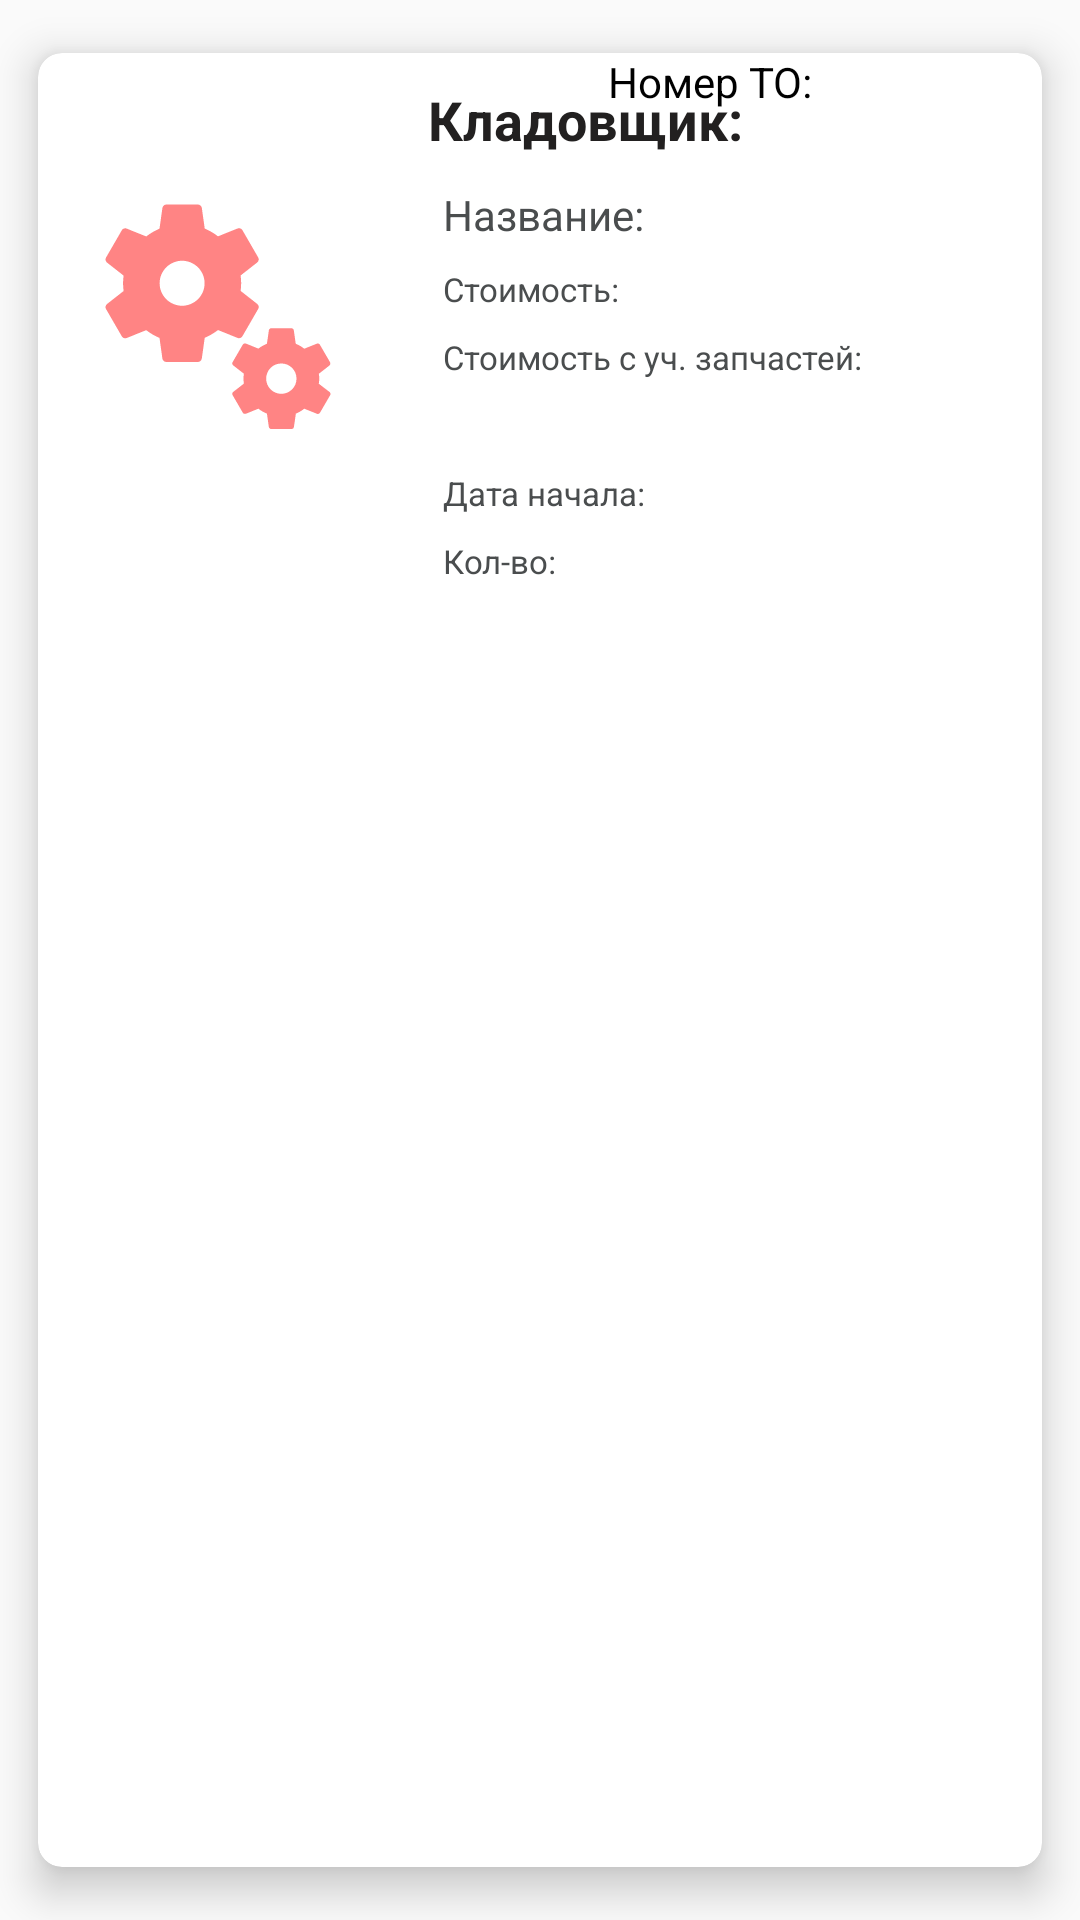

Where to tap for icons on this 1080×1920 app screen, as (x,y):
miscellaneous services: (218,316)
